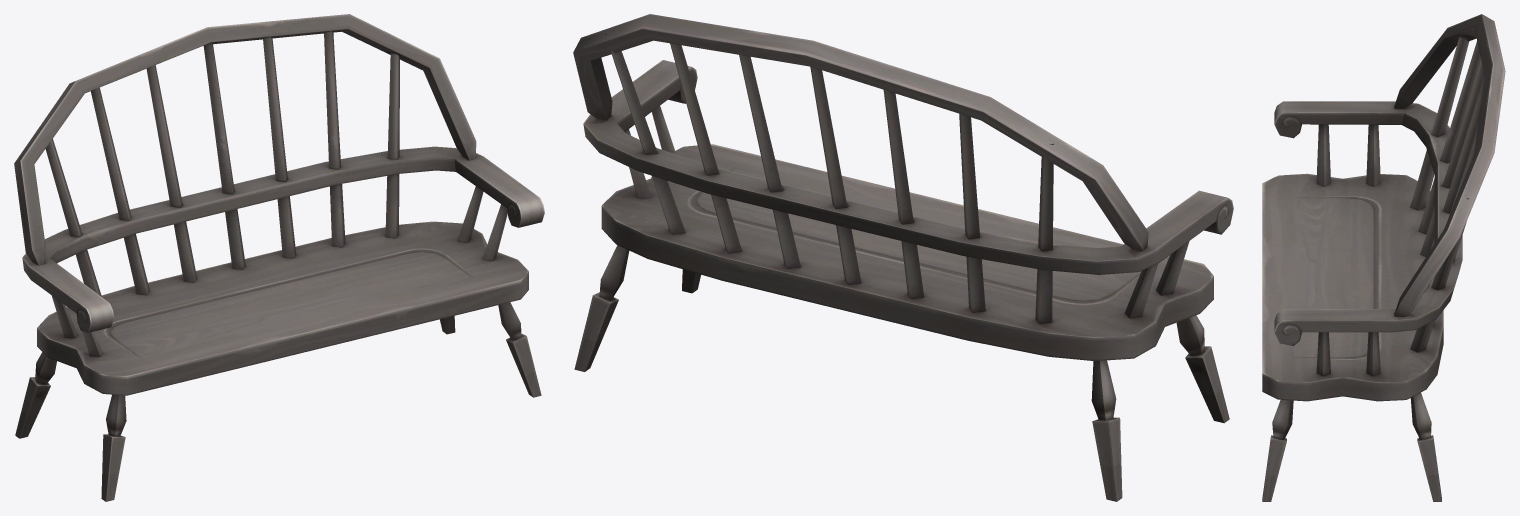
The model's file is SYJ_yizi01.FBX.
3 views of the same model, side by side, from view 1: azimuth 30°, elevation 25°; view 2: azimuth 150°, elevation 25°; view 3: azimuth 270°, elevation 25° (orthographic). The views are drawn at different scales.
Visible parts, largest first — view 1: SYJ_yizi01; view 2: SYJ_yizi01; view 3: SYJ_yizi01.
Boxes of the visible parts, box(x1,y1,x2,y2) form: SYJ_yizi01: box(14, 14, 544, 501); SYJ_yizi01: box(573, 14, 1233, 501); SYJ_yizi01: box(1262, 14, 1505, 501).
Size of the model in its own units: 197 by 139 by 92.31.
